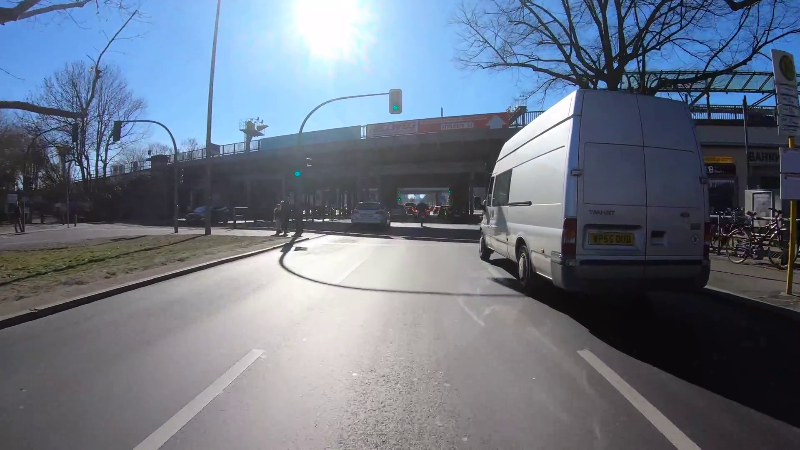Plate: (587, 231, 639, 246)
